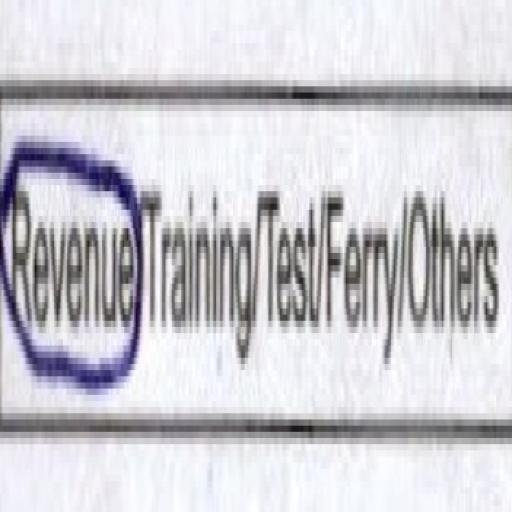check: (1, 2, 143, 496)
